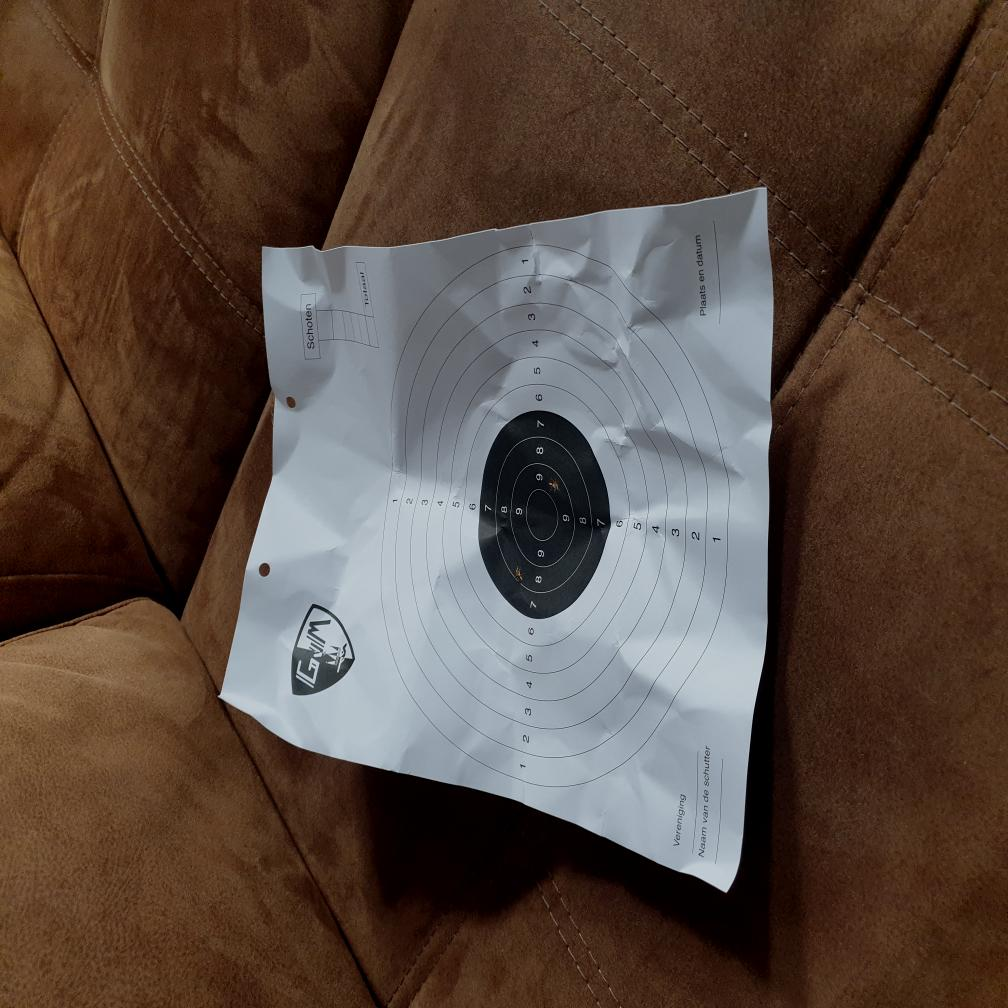8: (512, 563, 525, 584)
9: (547, 476, 560, 493)
Target: (380, 248, 732, 785)
black_contour: (478, 410, 610, 619)
